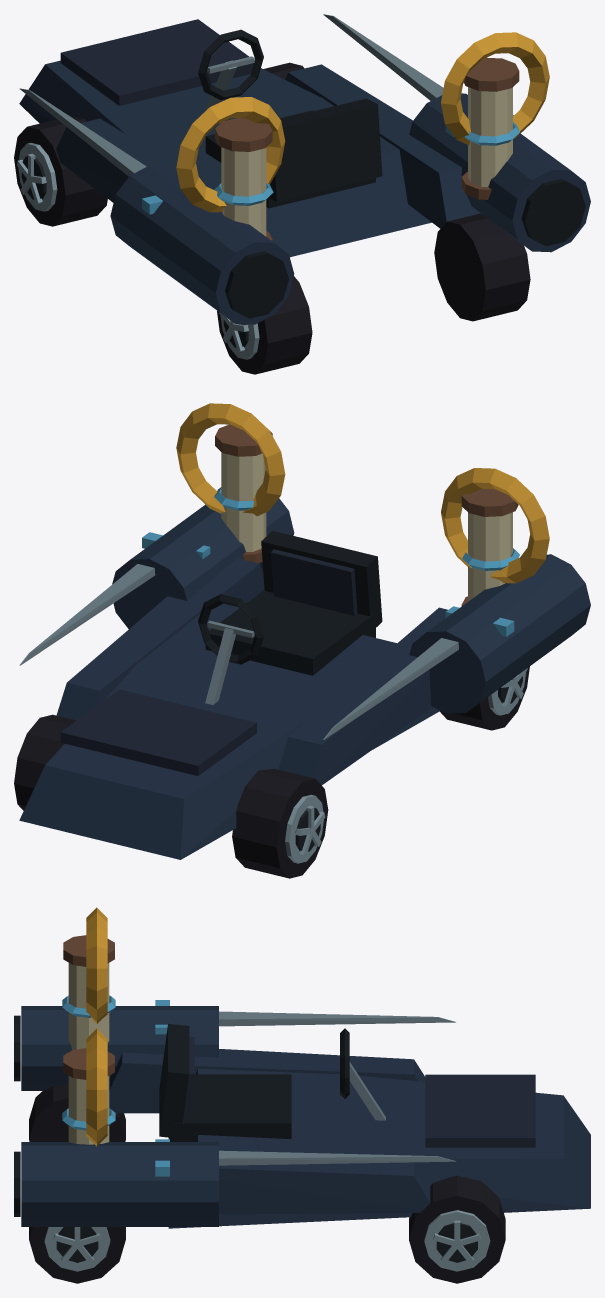
Rendered from kart.glb.
3 views of the same model, one above another, from view 1: azimuth 30°, elevation 25°; view 2: azimuth 150°, elevation 25°; view 3: azimuth 270°, elevation 25° (orthographic). The views are drawn at different scales.
Parts seen in each view (by area): view 1: identity-speeder-speeder-long-cowl-and-stern-turbines, identity-speeder-driver-cockpit, identity-speeder-motif-scrolls, identity-speeder-motif-ring, wheel-rear-right, wheel-front-left, wheel-rear-left, identity-speeder-motif-swords; view 2: identity-speeder-speeder-long-cowl-and-stern-turbines, identity-speeder-driver-cockpit, identity-speeder-motif-ring, identity-speeder-motif-scrolls, wheel-front-left, identity-speeder-motif-swords, wheel-front-right, wheel-rear-left; view 3: identity-speeder-speeder-long-cowl-and-stern-turbines, identity-speeder-driver-cockpit, wheel-front-right, identity-speeder-motif-scrolls, identity-speeder-motif-swords, identity-speeder-motif-ring, wheel-rear-right, wheel-rear-left.
Boxes of the visible parts, box(x1,y1,x2,y2) form: identity-speeder-speeder-long-cowl-and-stern-turbines: box(19, 19, 590, 324); identity-speeder-driver-cockpit: box(198, 29, 382, 208); identity-speeder-motif-scrolls: box(214, 57, 519, 241); identity-speeder-motif-ring: box(176, 32, 549, 212); wheel-rear-right: box(434, 213, 530, 321); wheel-front-left: box(14, 116, 107, 226); wheel-rear-left: box(217, 276, 312, 374); identity-speeder-motif-swords: box(19, 14, 513, 214); identity-speeder-speeder-long-cowl-and-stern-turbines: box(19, 498, 590, 859); identity-speeder-driver-cockpit: box(198, 530, 382, 704); identity-speeder-motif-ring: box(176, 403, 549, 583); identity-speeder-motif-scrolls: box(214, 424, 519, 606); wheel-front-left: box(232, 768, 328, 878); identity-speeder-motif-swords: box(19, 532, 514, 739); wheel-front-right: box(14, 714, 76, 810); wheel-rear-left: box(440, 666, 529, 730); identity-speeder-speeder-long-cowl-and-stern-turbines: box(14, 1006, 590, 1228); identity-speeder-driver-cockpit: box(159, 1023, 385, 1141); wheel-front-right: box(409, 1175, 505, 1283); identity-speeder-motif-scrolls: box(62, 935, 115, 1144); identity-speeder-motif-swords: box(155, 1000, 455, 1176); identity-speeder-motif-ring: box(86, 907, 107, 1146); wheel-rear-right: box(29, 1227, 125, 1283); wheel-rear-left: box(29, 1084, 125, 1141).
Bounding box in the file's own units: 2.1 × 1.42 × 2.98.
